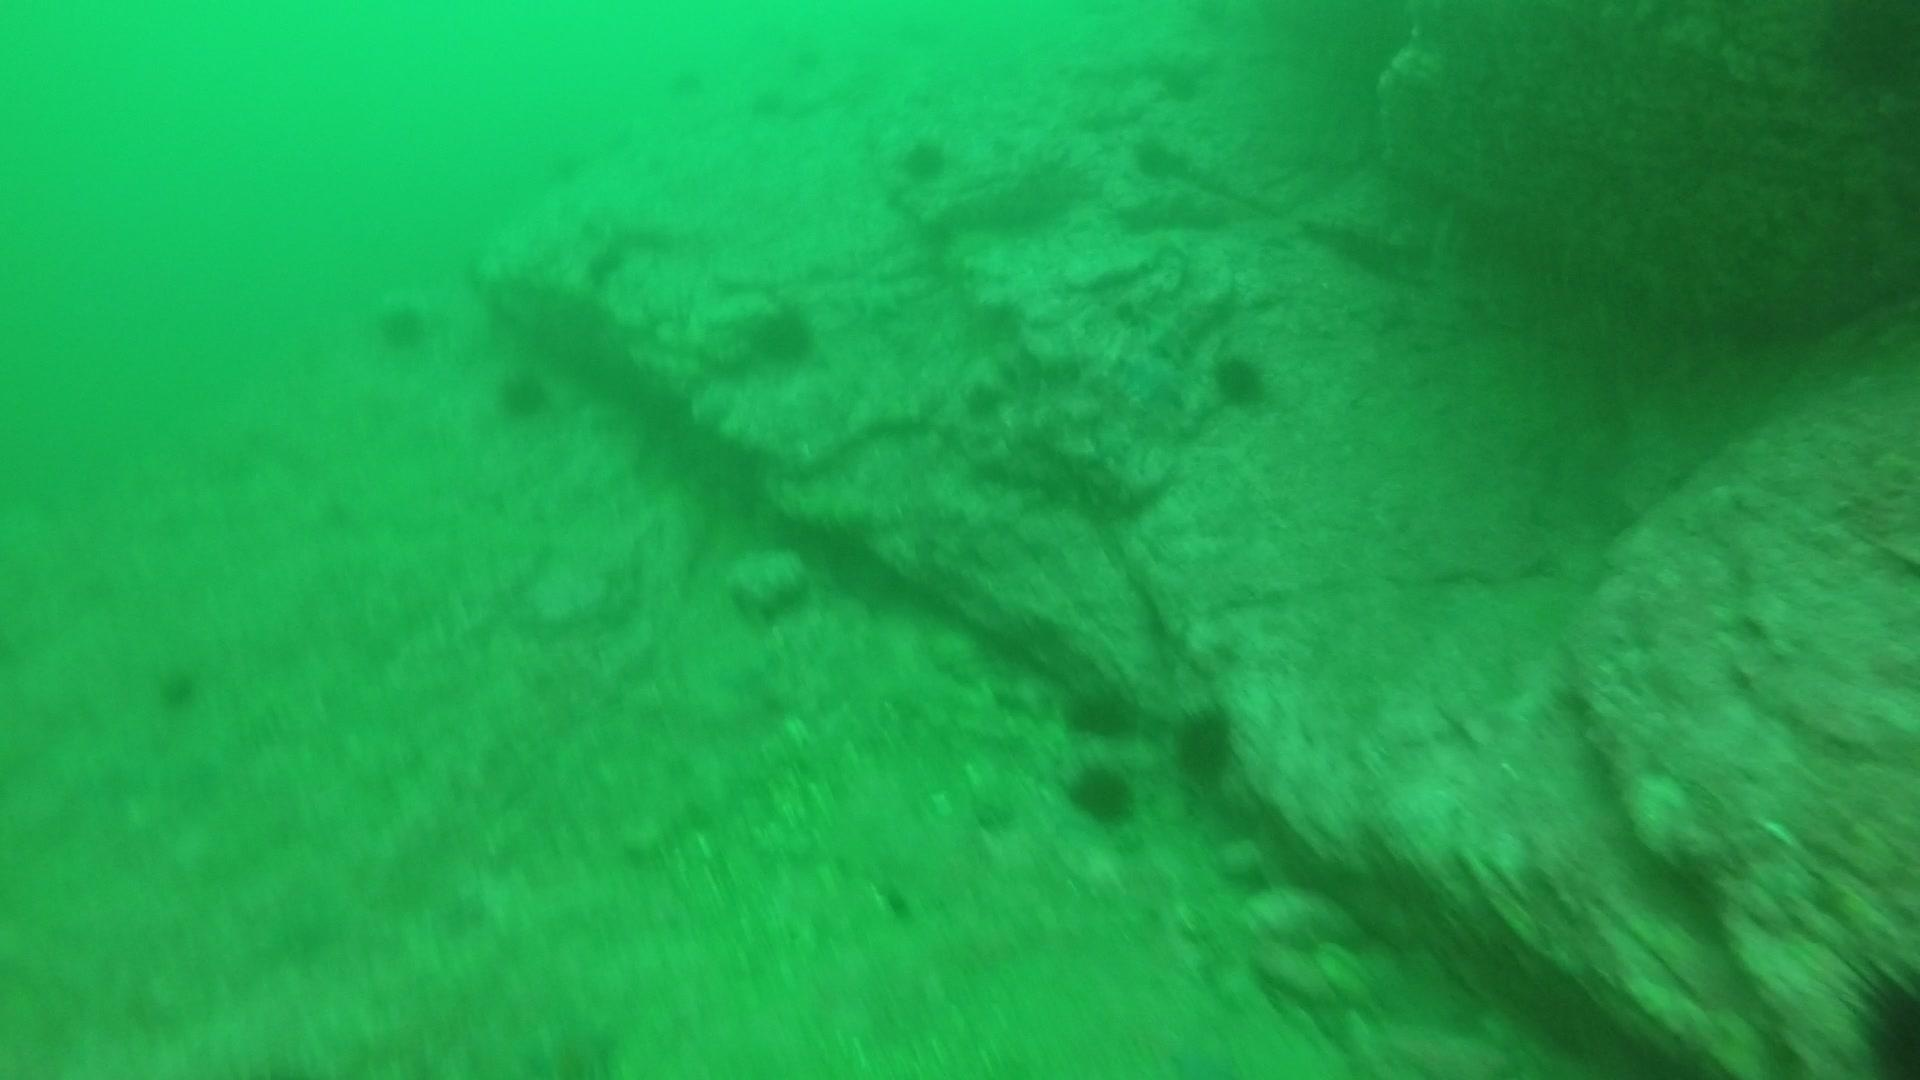echinus: (1812, 1, 1919, 99), (1842, 957, 1919, 1077), (1166, 699, 1246, 787), (738, 295, 823, 375), (1062, 756, 1142, 829), (1059, 678, 1142, 745), (1204, 345, 1275, 411), (491, 363, 558, 425), (369, 295, 436, 355), (894, 131, 955, 187), (1122, 131, 1183, 187), (148, 658, 207, 715), (1156, 63, 1211, 109), (675, 58, 720, 102), (745, 84, 790, 128), (785, 34, 829, 78)
